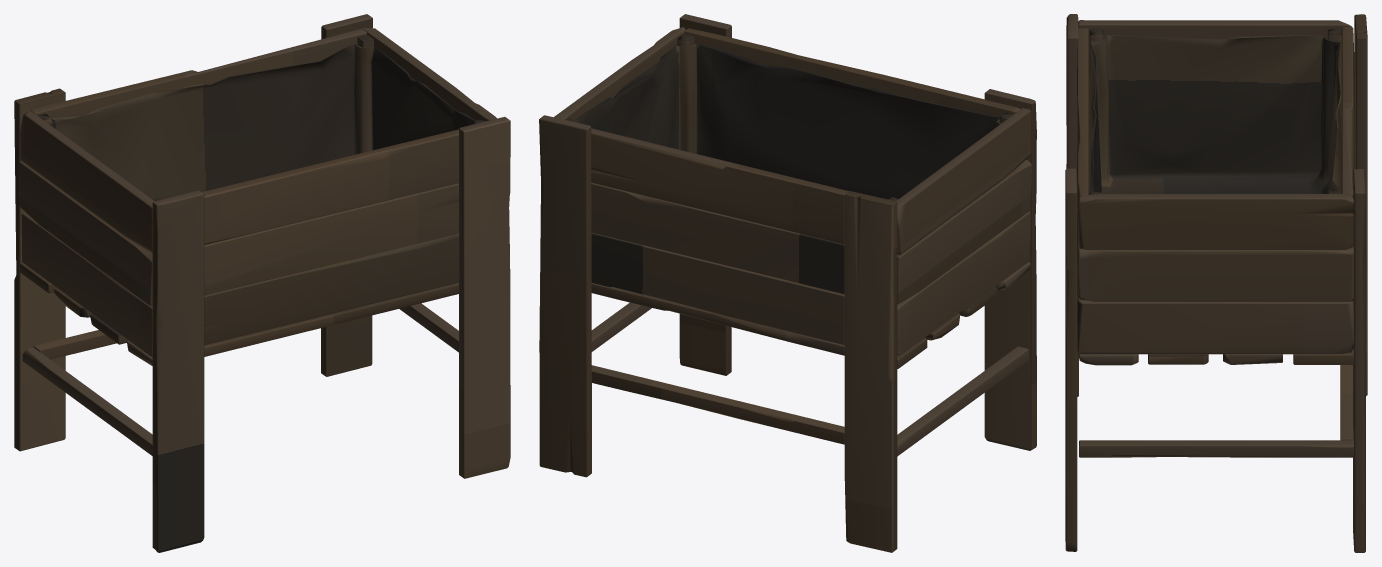
Rendered from ph_planter_3.glb.
The picture shows the model from 3 angles, left to right: view 1: azimuth 30°, elevation 25°; view 2: azimuth 150°, elevation 25°; view 3: azimuth 270°, elevation 25°; orthographic projection. The views are drawn at different scales.
Visible parts, largest first — view 1: ph_planter_3; view 2: ph_planter_3; view 3: ph_planter_3.
Boxes of the visible parts, x1,y1,x2,y2 form: ph_planter_3: (14, 14, 510, 552); ph_planter_3: (539, 14, 1036, 552); ph_planter_3: (1065, 14, 1367, 552).
Size of the model in its own units: 0.9113 by 0.8551 by 0.6488.
1 material, 1 textured.
